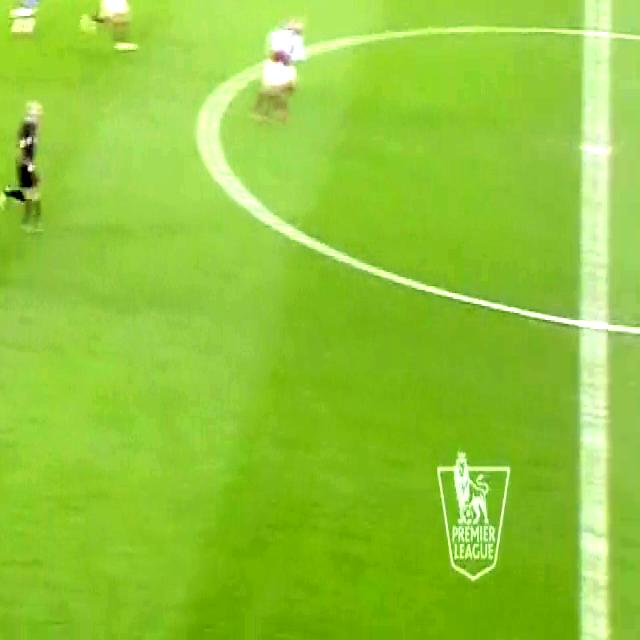referee: (0, 85, 52, 240)
soccer-player: (248, 2, 308, 134), (77, 0, 140, 59), (3, 0, 55, 48)
